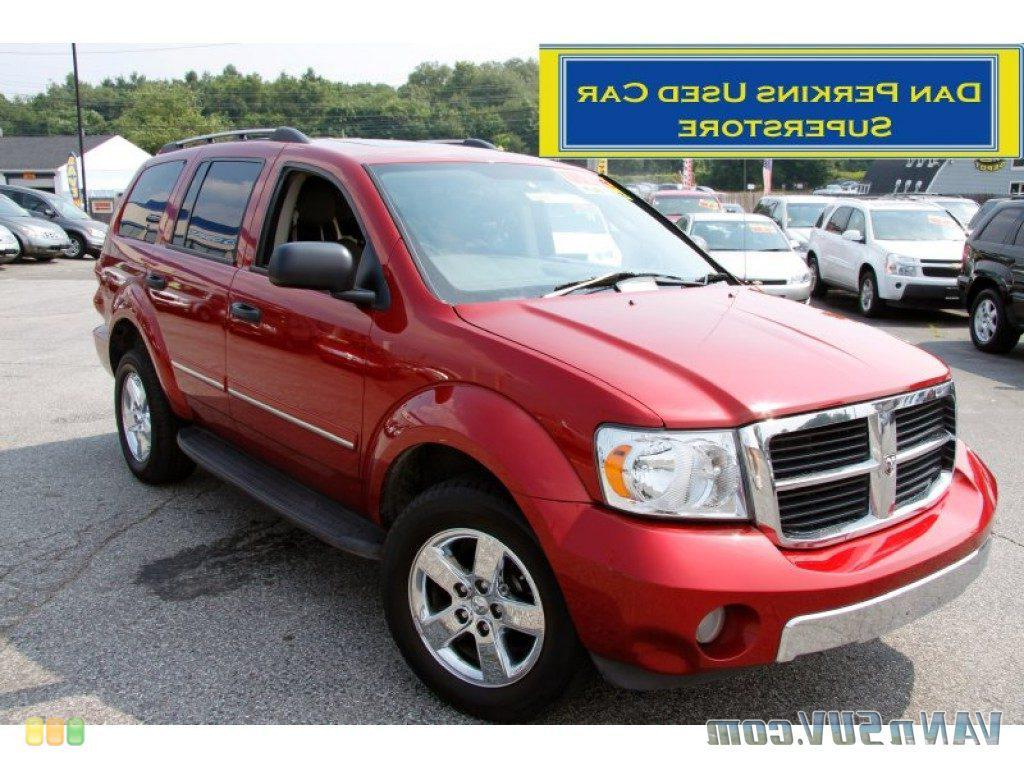Car: (69, 110, 1003, 725), (788, 190, 986, 335), (673, 200, 813, 325)
